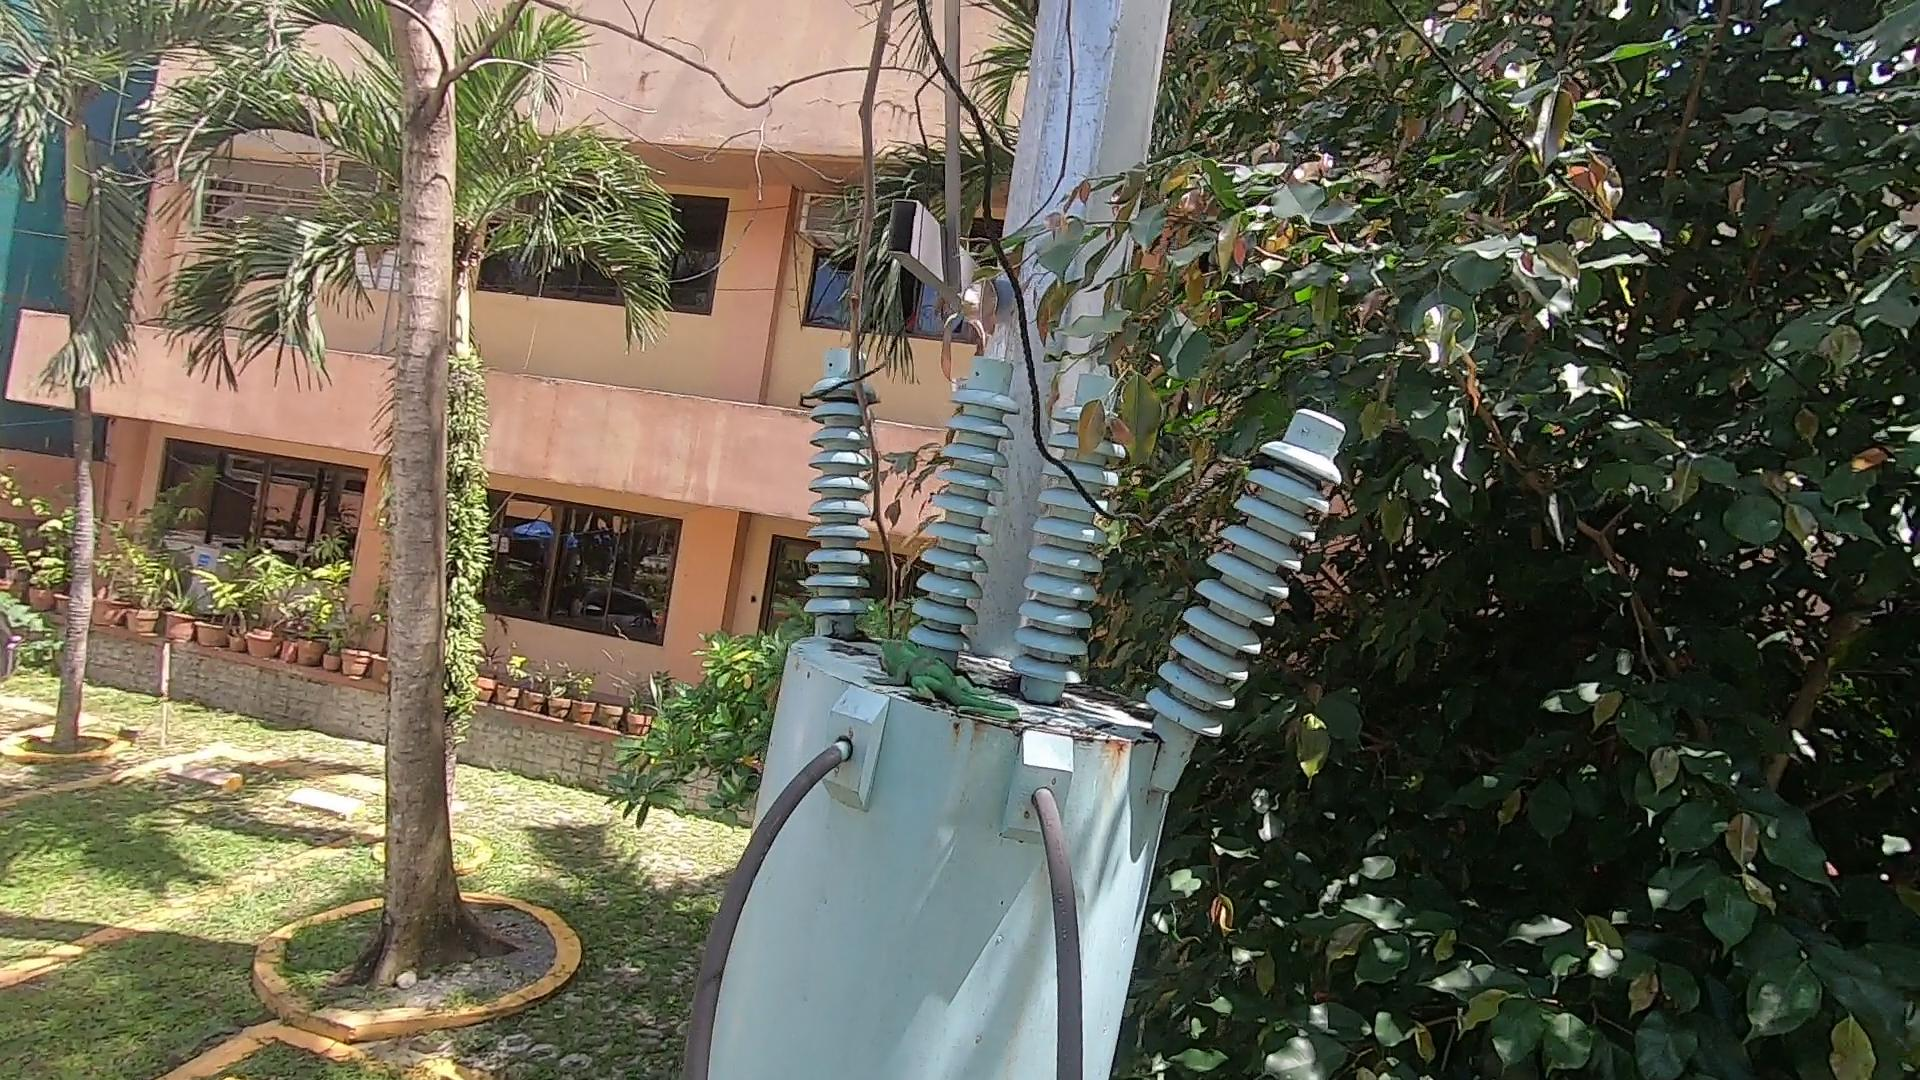branch with leaves: (1000, 241, 1247, 462)
leaf: (1069, 671, 1160, 717), (818, 621, 872, 651), (969, 662, 1025, 691)
tree branch: (851, 5, 936, 644)
